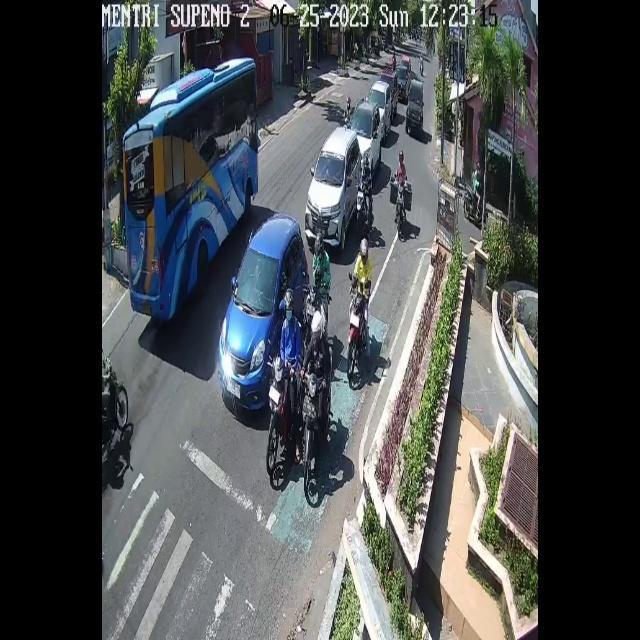bus: (266, 357, 293, 476), (302, 373, 325, 495), (102, 358, 129, 456), (346, 290, 365, 377), (462, 182, 488, 220), (304, 282, 322, 327), (356, 182, 366, 233), (396, 182, 406, 228)
car: (122, 56, 258, 320)
motorcycle: (217, 212, 309, 410), (304, 126, 360, 252), (348, 97, 382, 171), (366, 80, 391, 137), (405, 80, 423, 136), (380, 67, 398, 118), (397, 65, 410, 101)
